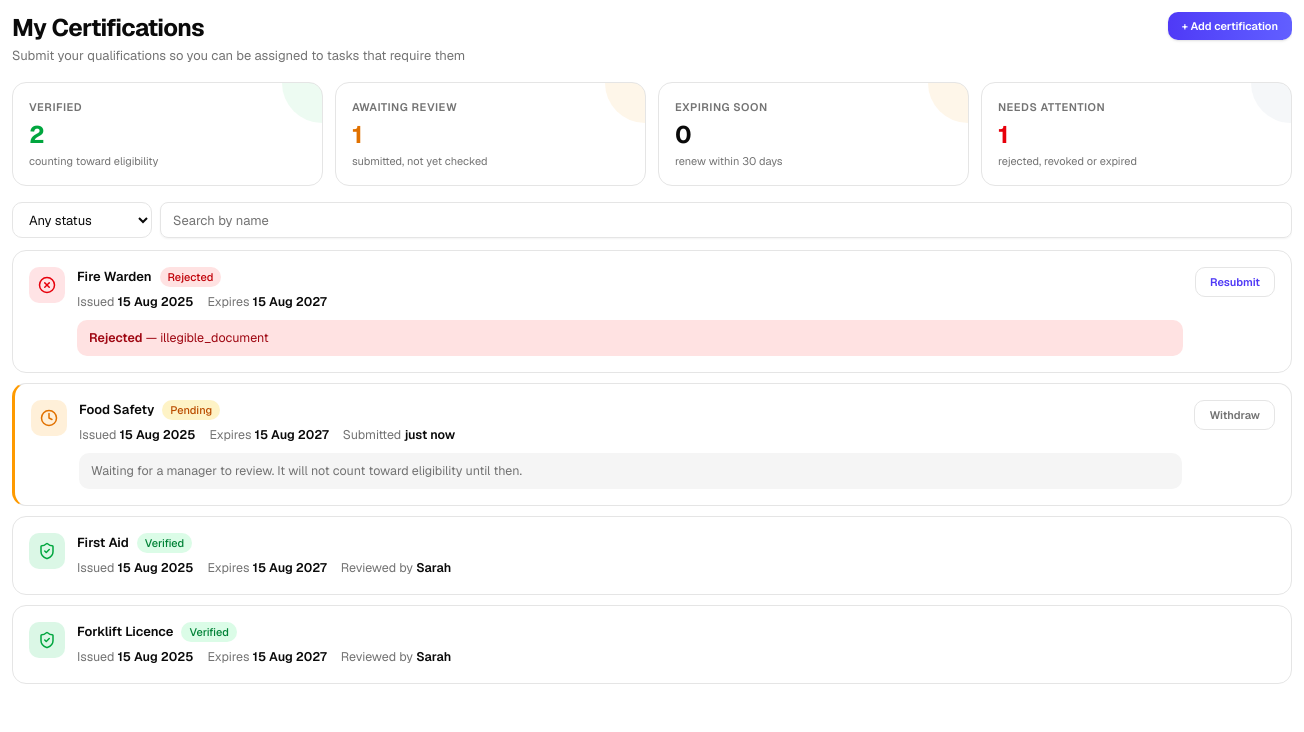
Test case: narrowing the list › restores the whole list when cleared
The width and height of the screenshot is (1304, 732).
expect the text "First Aid" is shown: met, box [77,533,129,553]
Select "Awaiting review" in the dropdown named "Status": (82,220) [12,202,152,238]
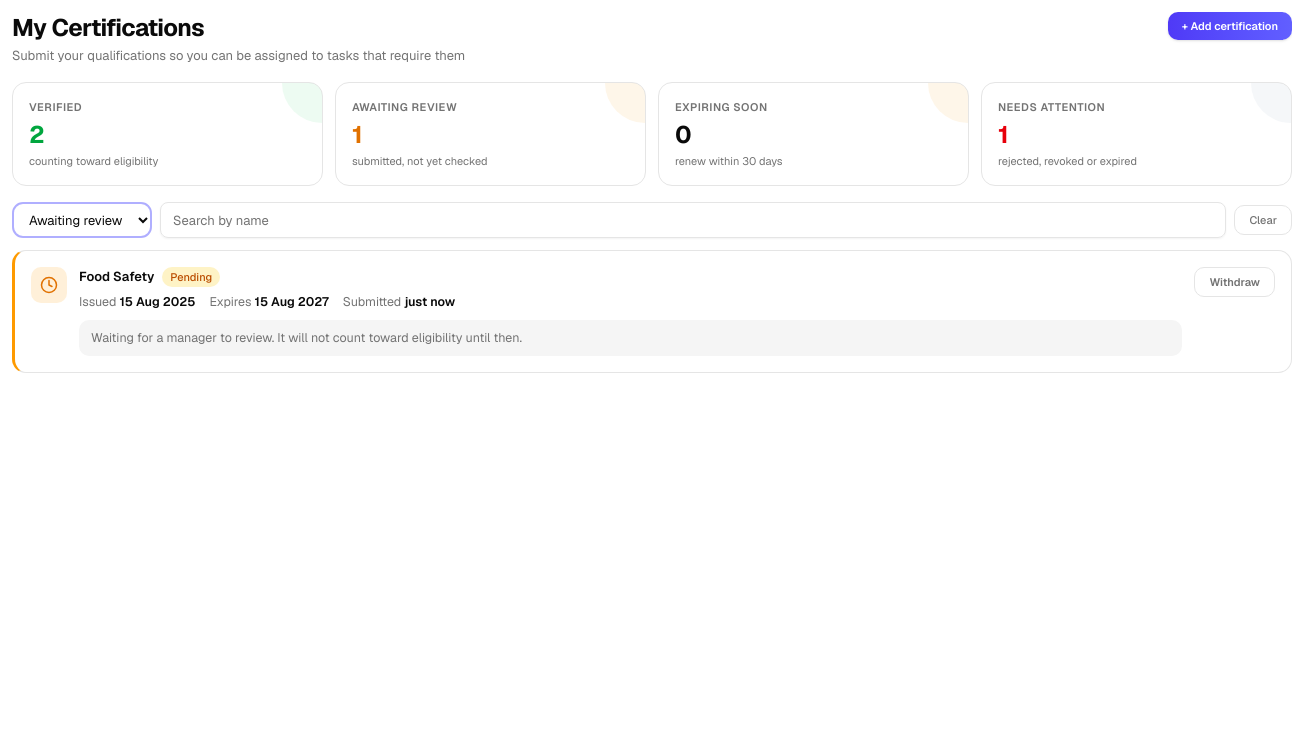
Click the button "Clear": (1263,220) [1234,205,1292,235]
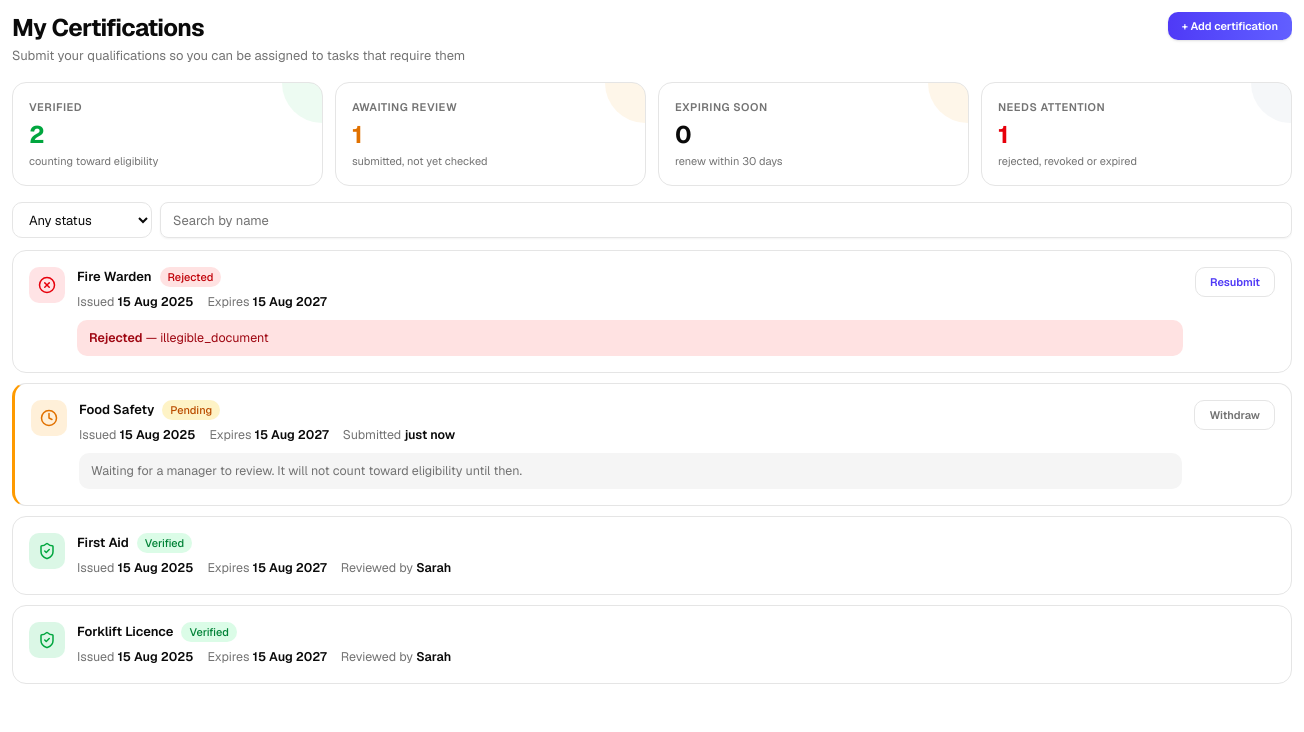
expect the text "First Aid" is shown: met, box [77,533,129,553]
expect the text "Forklift Licence" is shown: met, box [77,622,173,642]
